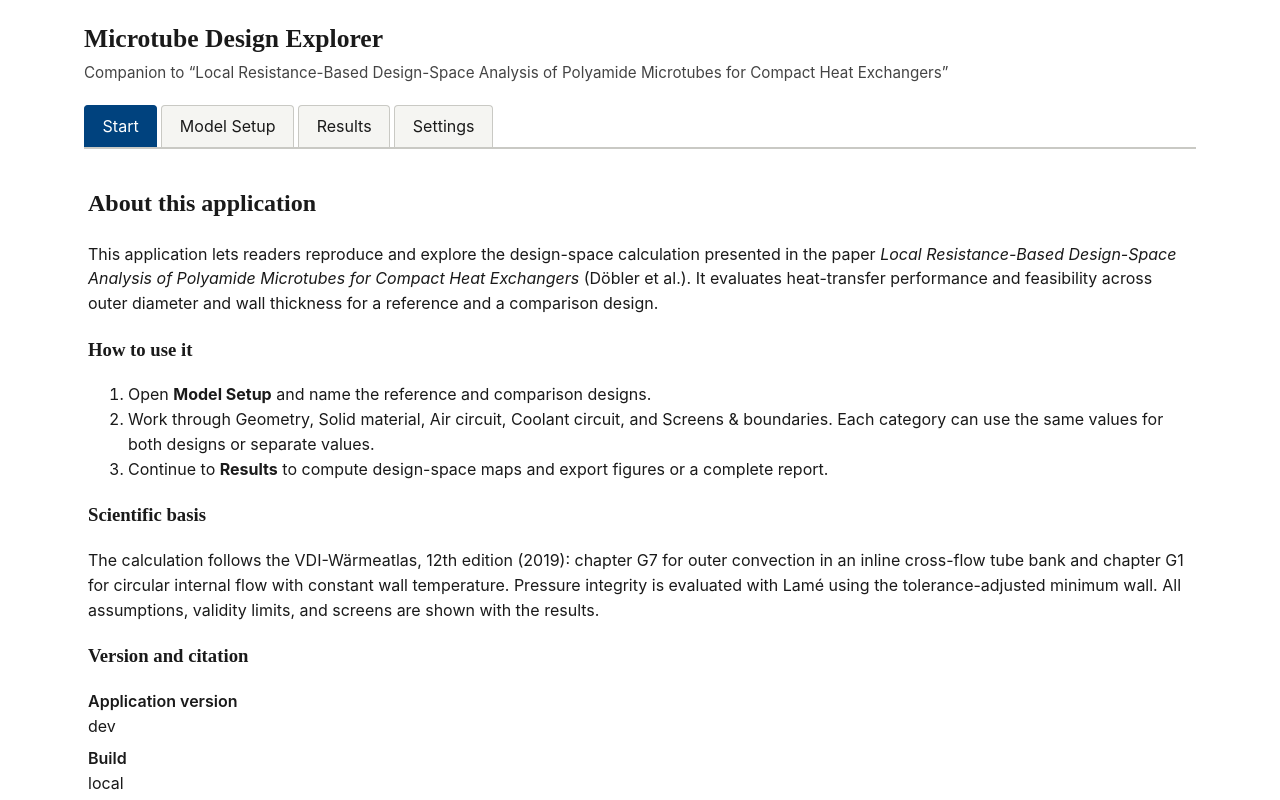
App shell › shows public authorship, citation, license, and warranty information in Settings
Click the tab "Settings" at (444, 126), box [394, 105, 493, 147]
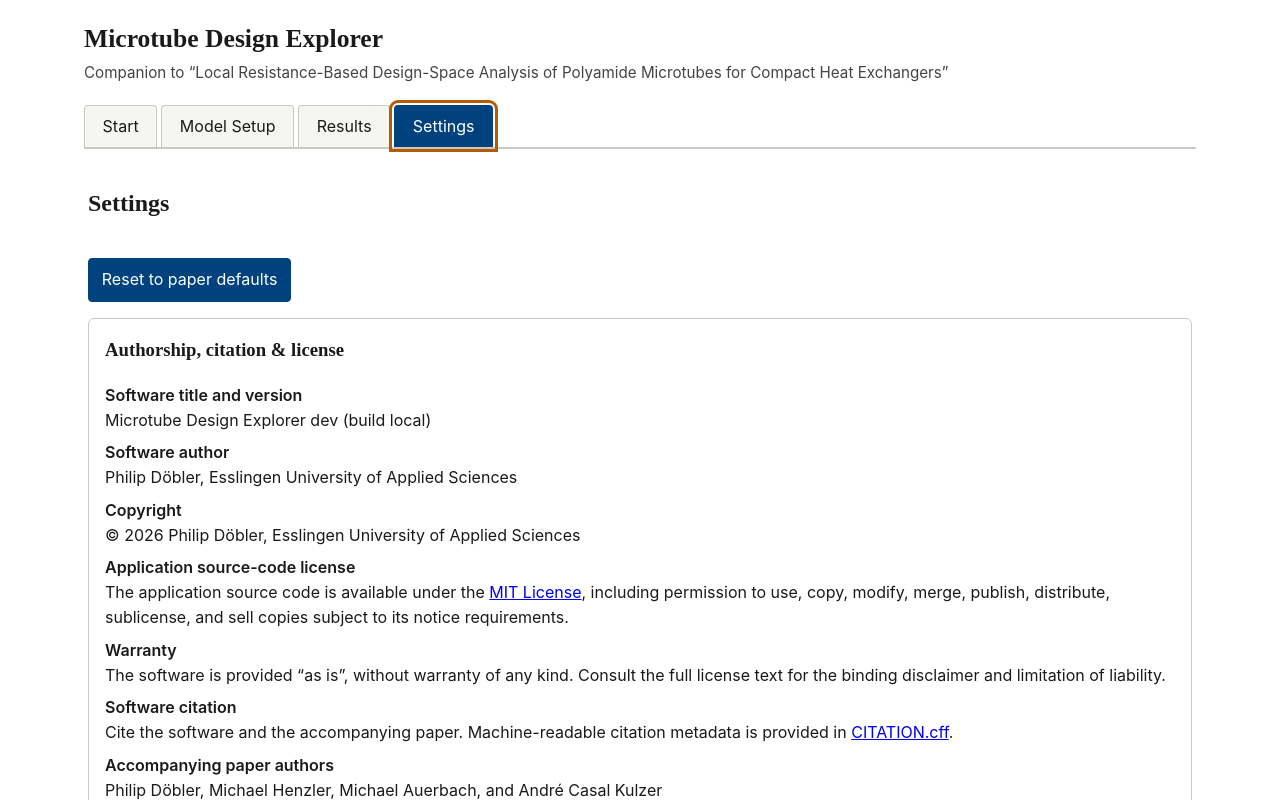
Check: the heading "Authorship, citation & license" is shown, box [105, 339, 344, 360]
Check: the text "Philip Döbler, Esslingen University of Applied Sciences" is shown, box [105, 467, 517, 487]
Check: the text "André Casal Kulzer" is shown, box [105, 780, 662, 799]
